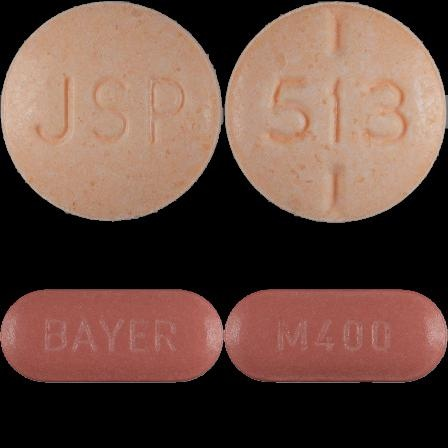55289-076: (0, 0, 224, 224)
